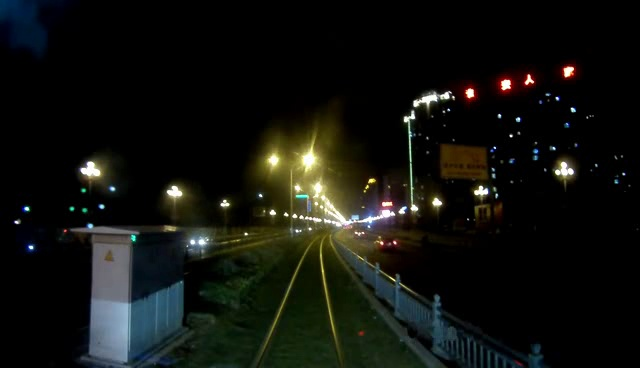car: (374, 235, 401, 255), (188, 234, 219, 250)
